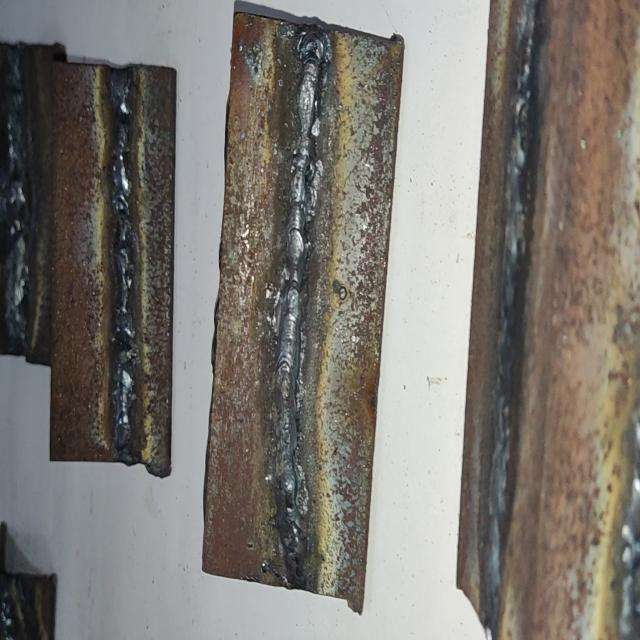Defect: (270, 31, 311, 584), (106, 80, 132, 450), (4, 62, 30, 346)
Welding Line: (272, 29, 324, 574), (110, 73, 134, 450), (5, 56, 26, 343)
Workpiece: (200, 6, 406, 614), (55, 59, 174, 472), (0, 43, 67, 365)
